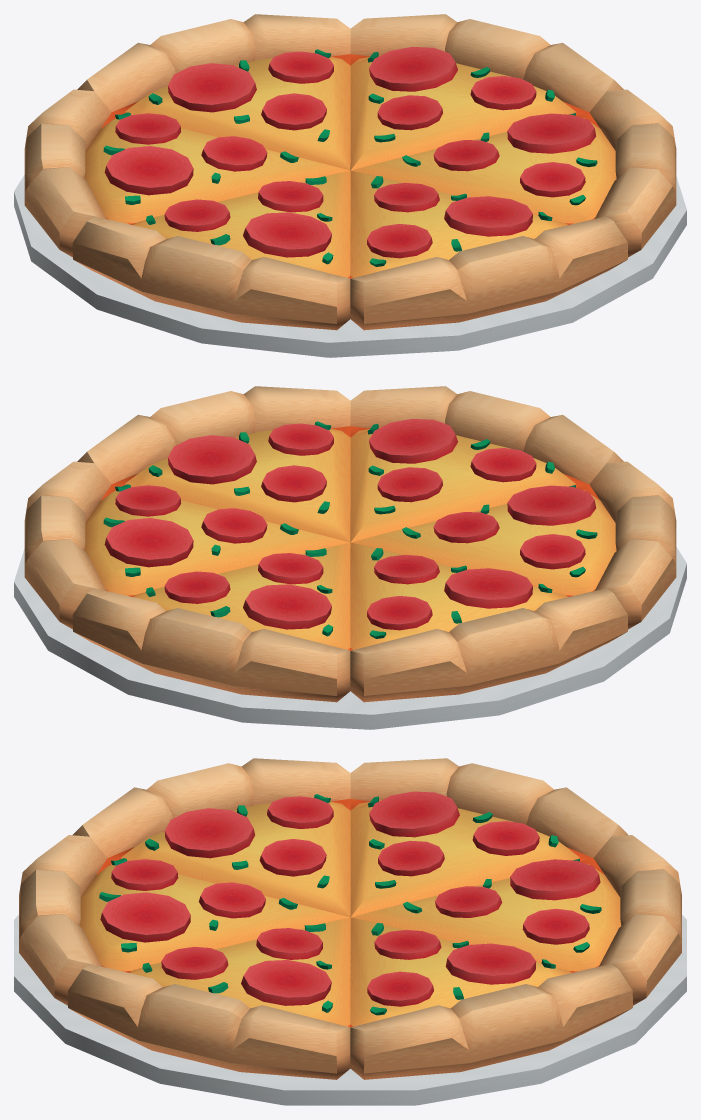
File: food_pizza_pepperoni_plated.gltf
3 renders of one model, top to bottom at view 1: azimuth 30°, elevation 25°; view 2: azimuth 150°, elevation 25°; view 3: azimuth 270°, elevation 25°, orthographic.
Parts seen in each view (by area): view 1: food_pizza_pepperoni_plated; view 2: food_pizza_pepperoni_plated; view 3: food_pizza_pepperoni_plated.
Part boxes in pixels (x1=…): food_pizza_pepperoni_plated: x1=14, y1=14, x2=686, y2=357; food_pizza_pepperoni_plated: x1=14, y1=386, x2=686, y2=729; food_pizza_pepperoni_plated: x1=14, y1=758, x2=686, y2=1105.
Bounding box in the file's own units: 2 × 0.3 × 2.
Materials: 1 (1 with a texture image).
